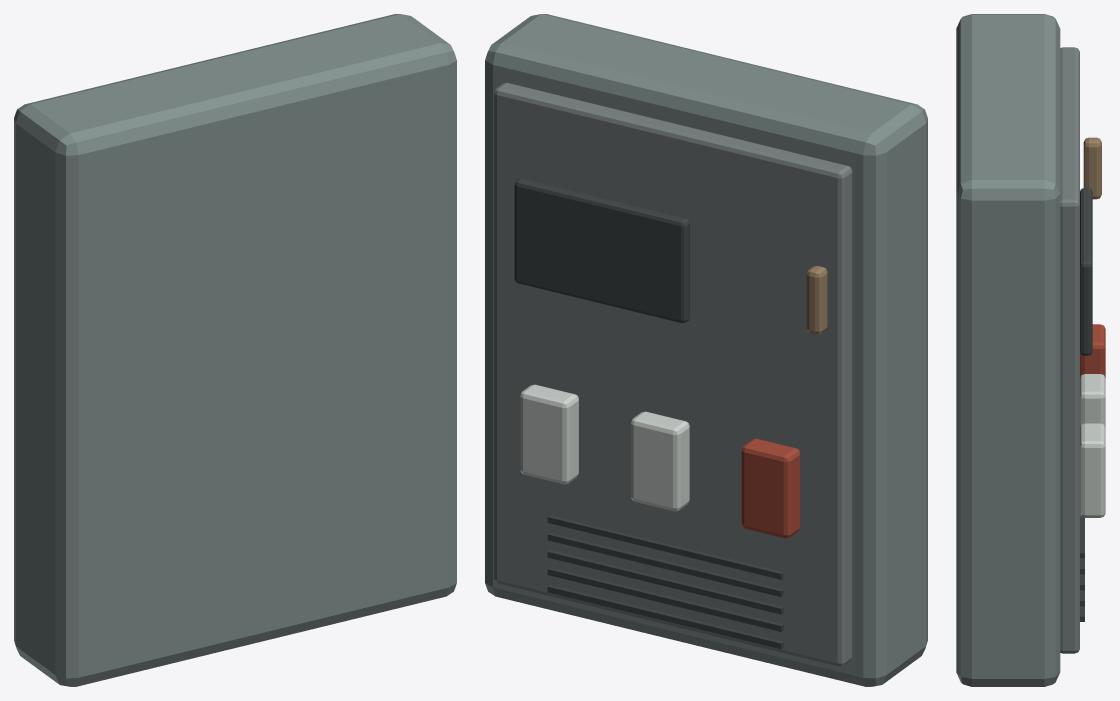
Rendered from UtilityPanel.fbx.
3 views of the same model, side by side, from view 1: azimuth 30°, elevation 25°; view 2: azimuth 150°, elevation 25°; view 3: azimuth 270°, elevation 25° (orthographic). The views are drawn at different scales.
Parts seen in each view (by area): view 1: UtilityPanel_Paint; view 2: UtilityPanel_Steel, UtilityPanel_Paint, UtilityPanel_Ink, UtilityPanel_Ceramic, UtilityPanel_Red, UtilityPanel_Timber; view 3: UtilityPanel_Paint, UtilityPanel_Steel, UtilityPanel_Ceramic, UtilityPanel_Ink, UtilityPanel_Timber, UtilityPanel_Red.
Boxes of the visible parts, x1,y1,x2,y2 form: UtilityPanel_Paint: [14, 14, 456, 686]; UtilityPanel_Steel: [494, 82, 852, 666]; UtilityPanel_Paint: [485, 14, 927, 686]; UtilityPanel_Ink: [514, 178, 783, 649]; UtilityPanel_Ceramic: [520, 384, 689, 511]; UtilityPanel_Red: [741, 438, 800, 538]; UtilityPanel_Timber: [806, 266, 827, 334]; UtilityPanel_Paint: [956, 14, 1060, 686]; UtilityPanel_Steel: [1060, 47, 1079, 653]; UtilityPanel_Ceramic: [1080, 374, 1105, 517]; UtilityPanel_Ink: [1080, 188, 1092, 621]; UtilityPanel_Timber: [1083, 137, 1101, 199]; UtilityPanel_Red: [1080, 324, 1105, 377].
Bounding box in the file's own units: 65 × 86 × 23.
